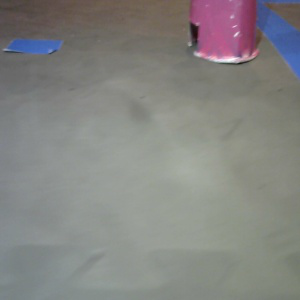right: (187, 1, 261, 64)
